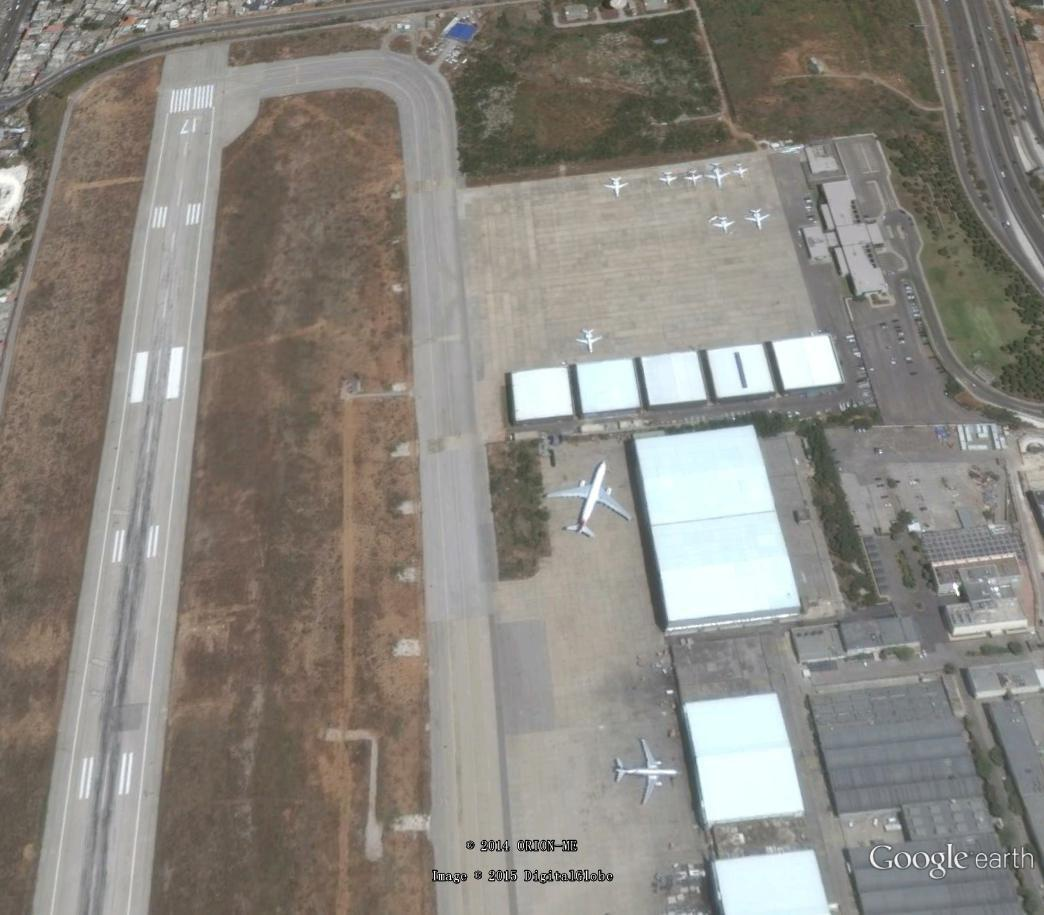aircraft: (544, 457, 637, 544), (612, 732, 681, 810), (573, 324, 606, 358), (744, 208, 775, 234), (606, 174, 633, 202), (705, 162, 730, 190), (711, 213, 739, 237), (657, 168, 682, 192), (732, 160, 753, 181), (682, 168, 703, 186)
